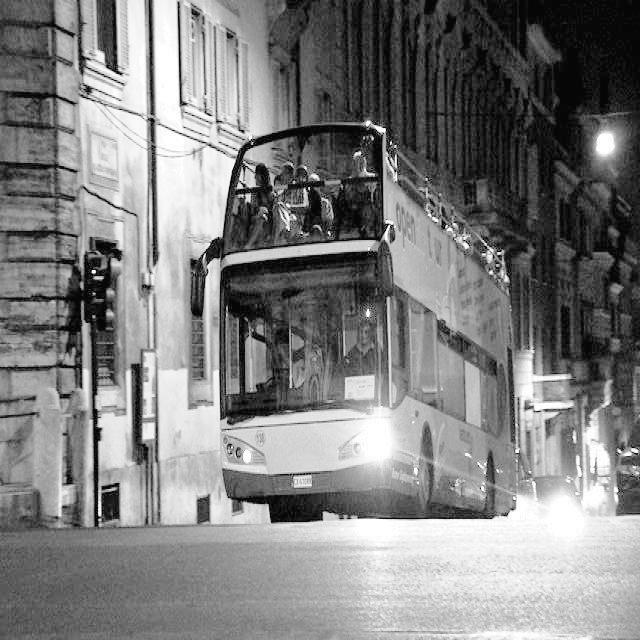Bus: (195, 103, 532, 542)
Car: (526, 427, 599, 577)
